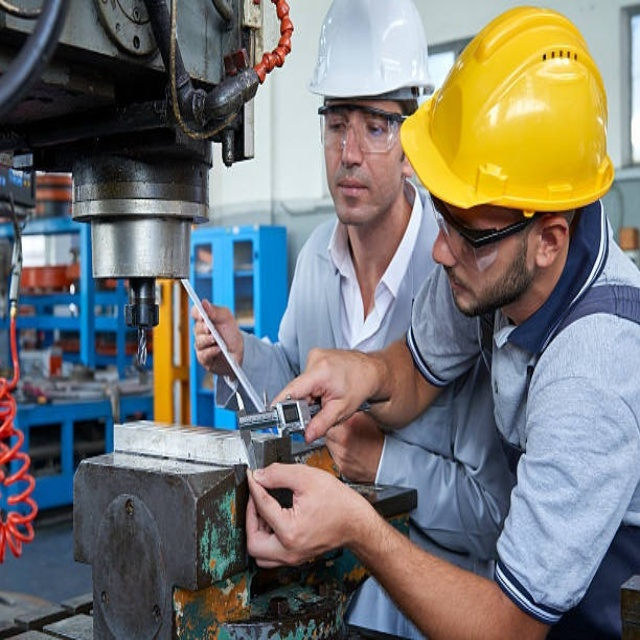Gafas: (427, 187, 531, 270), (322, 107, 410, 155)
Sin_guantes: (268, 344, 384, 441), (244, 462, 351, 565), (321, 408, 386, 487), (190, 297, 243, 378)
Sin_mascara: (437, 254, 483, 315), (327, 166, 375, 220)
